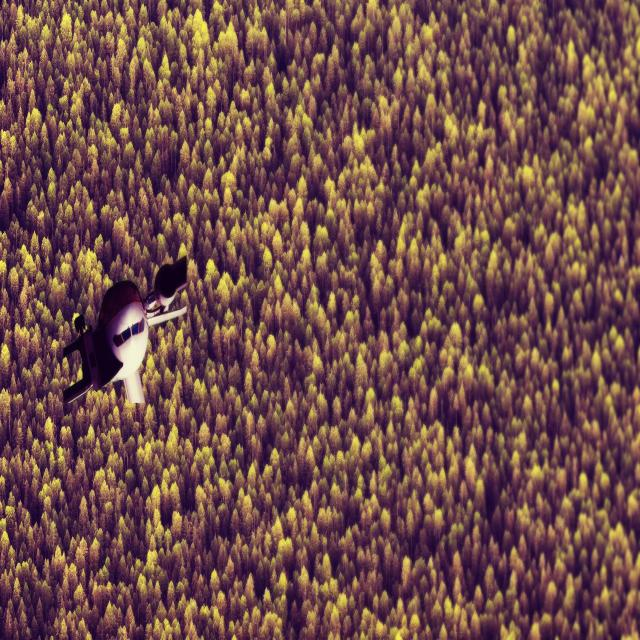airplane: (61, 253, 188, 412)
